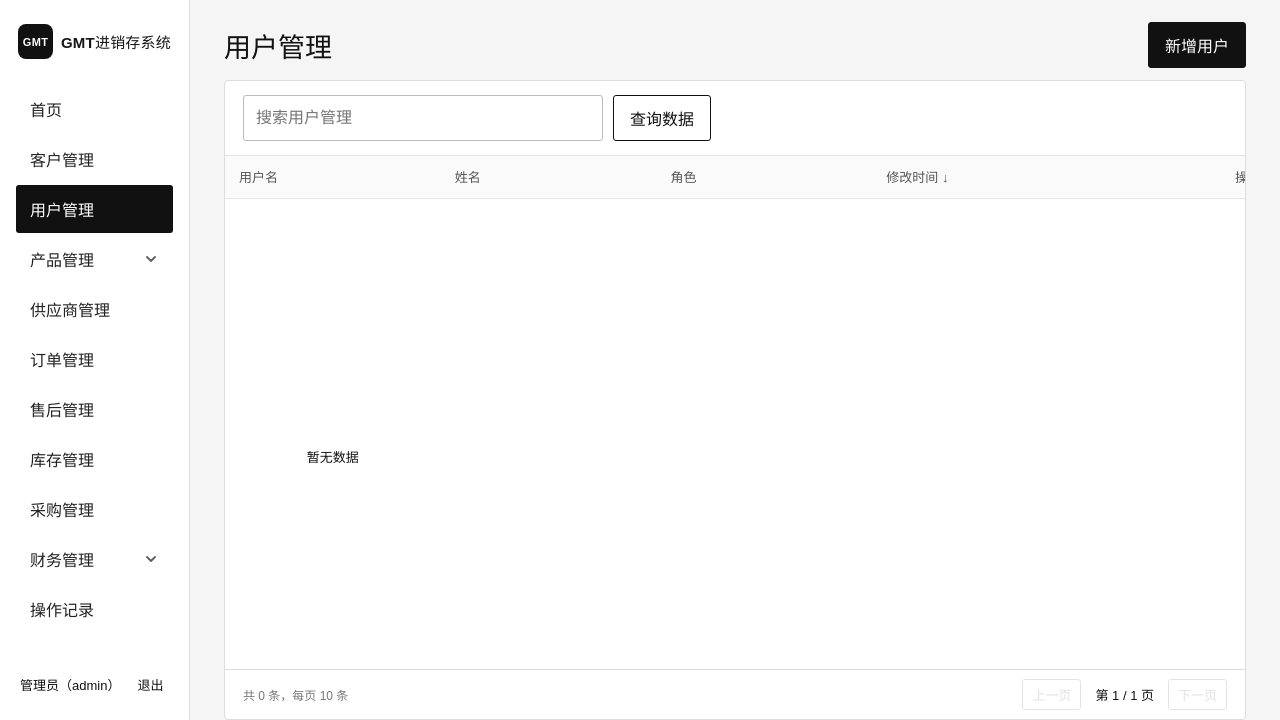
Test: 连续导航和浏览器地址状态 › 新增用户打开用户表单，并提供联系电话字段
Click the button with test id "primary-action": (1197, 45) [1148,22,1246,68]
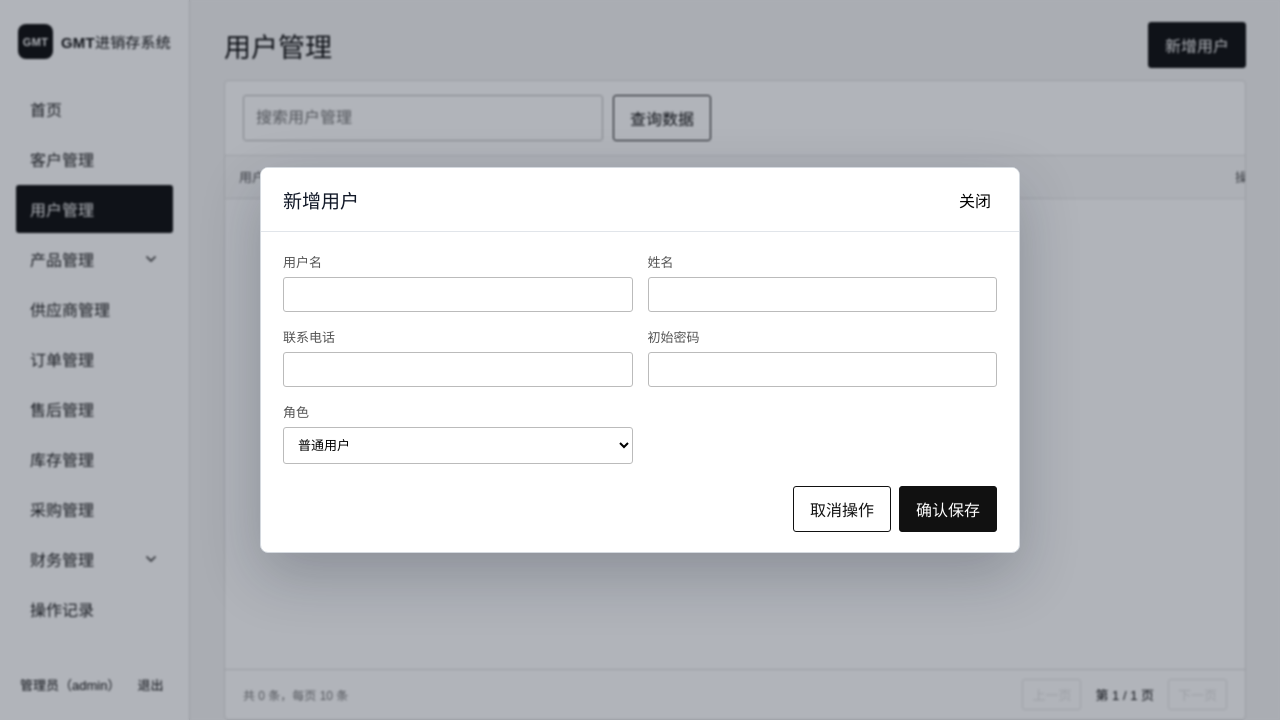
expect the dialog shows "新增用户": met, box [283,191,359,212]
expect the text "联系电话" is shown: met, box [283,330,335,345]
